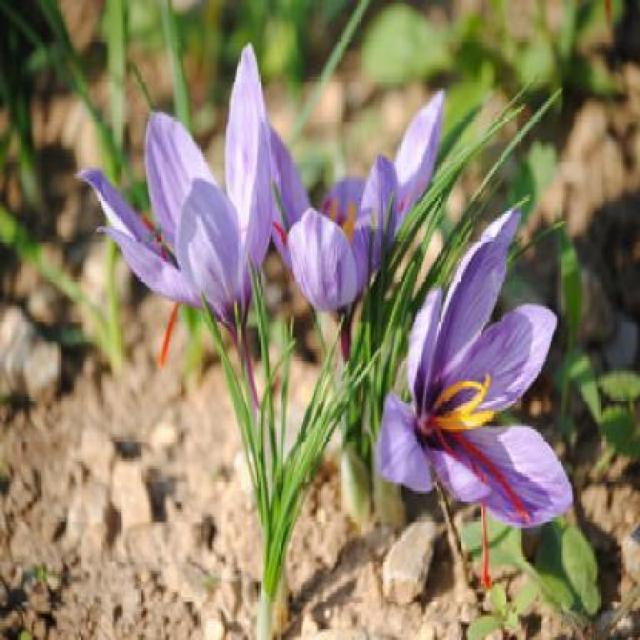Flower: (368, 204, 560, 527), (82, 42, 270, 338), (272, 89, 450, 326)
stigma: (434, 427, 501, 594), (452, 430, 540, 526), (155, 298, 184, 371)
